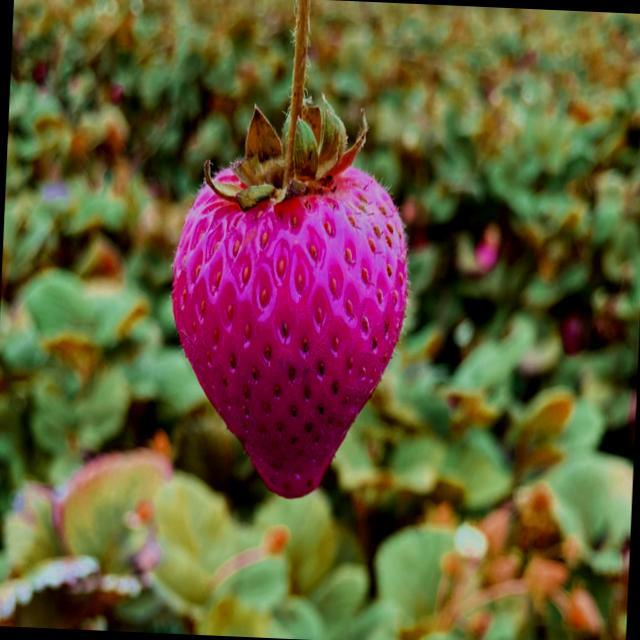strawberry: (174, 101, 408, 498)
